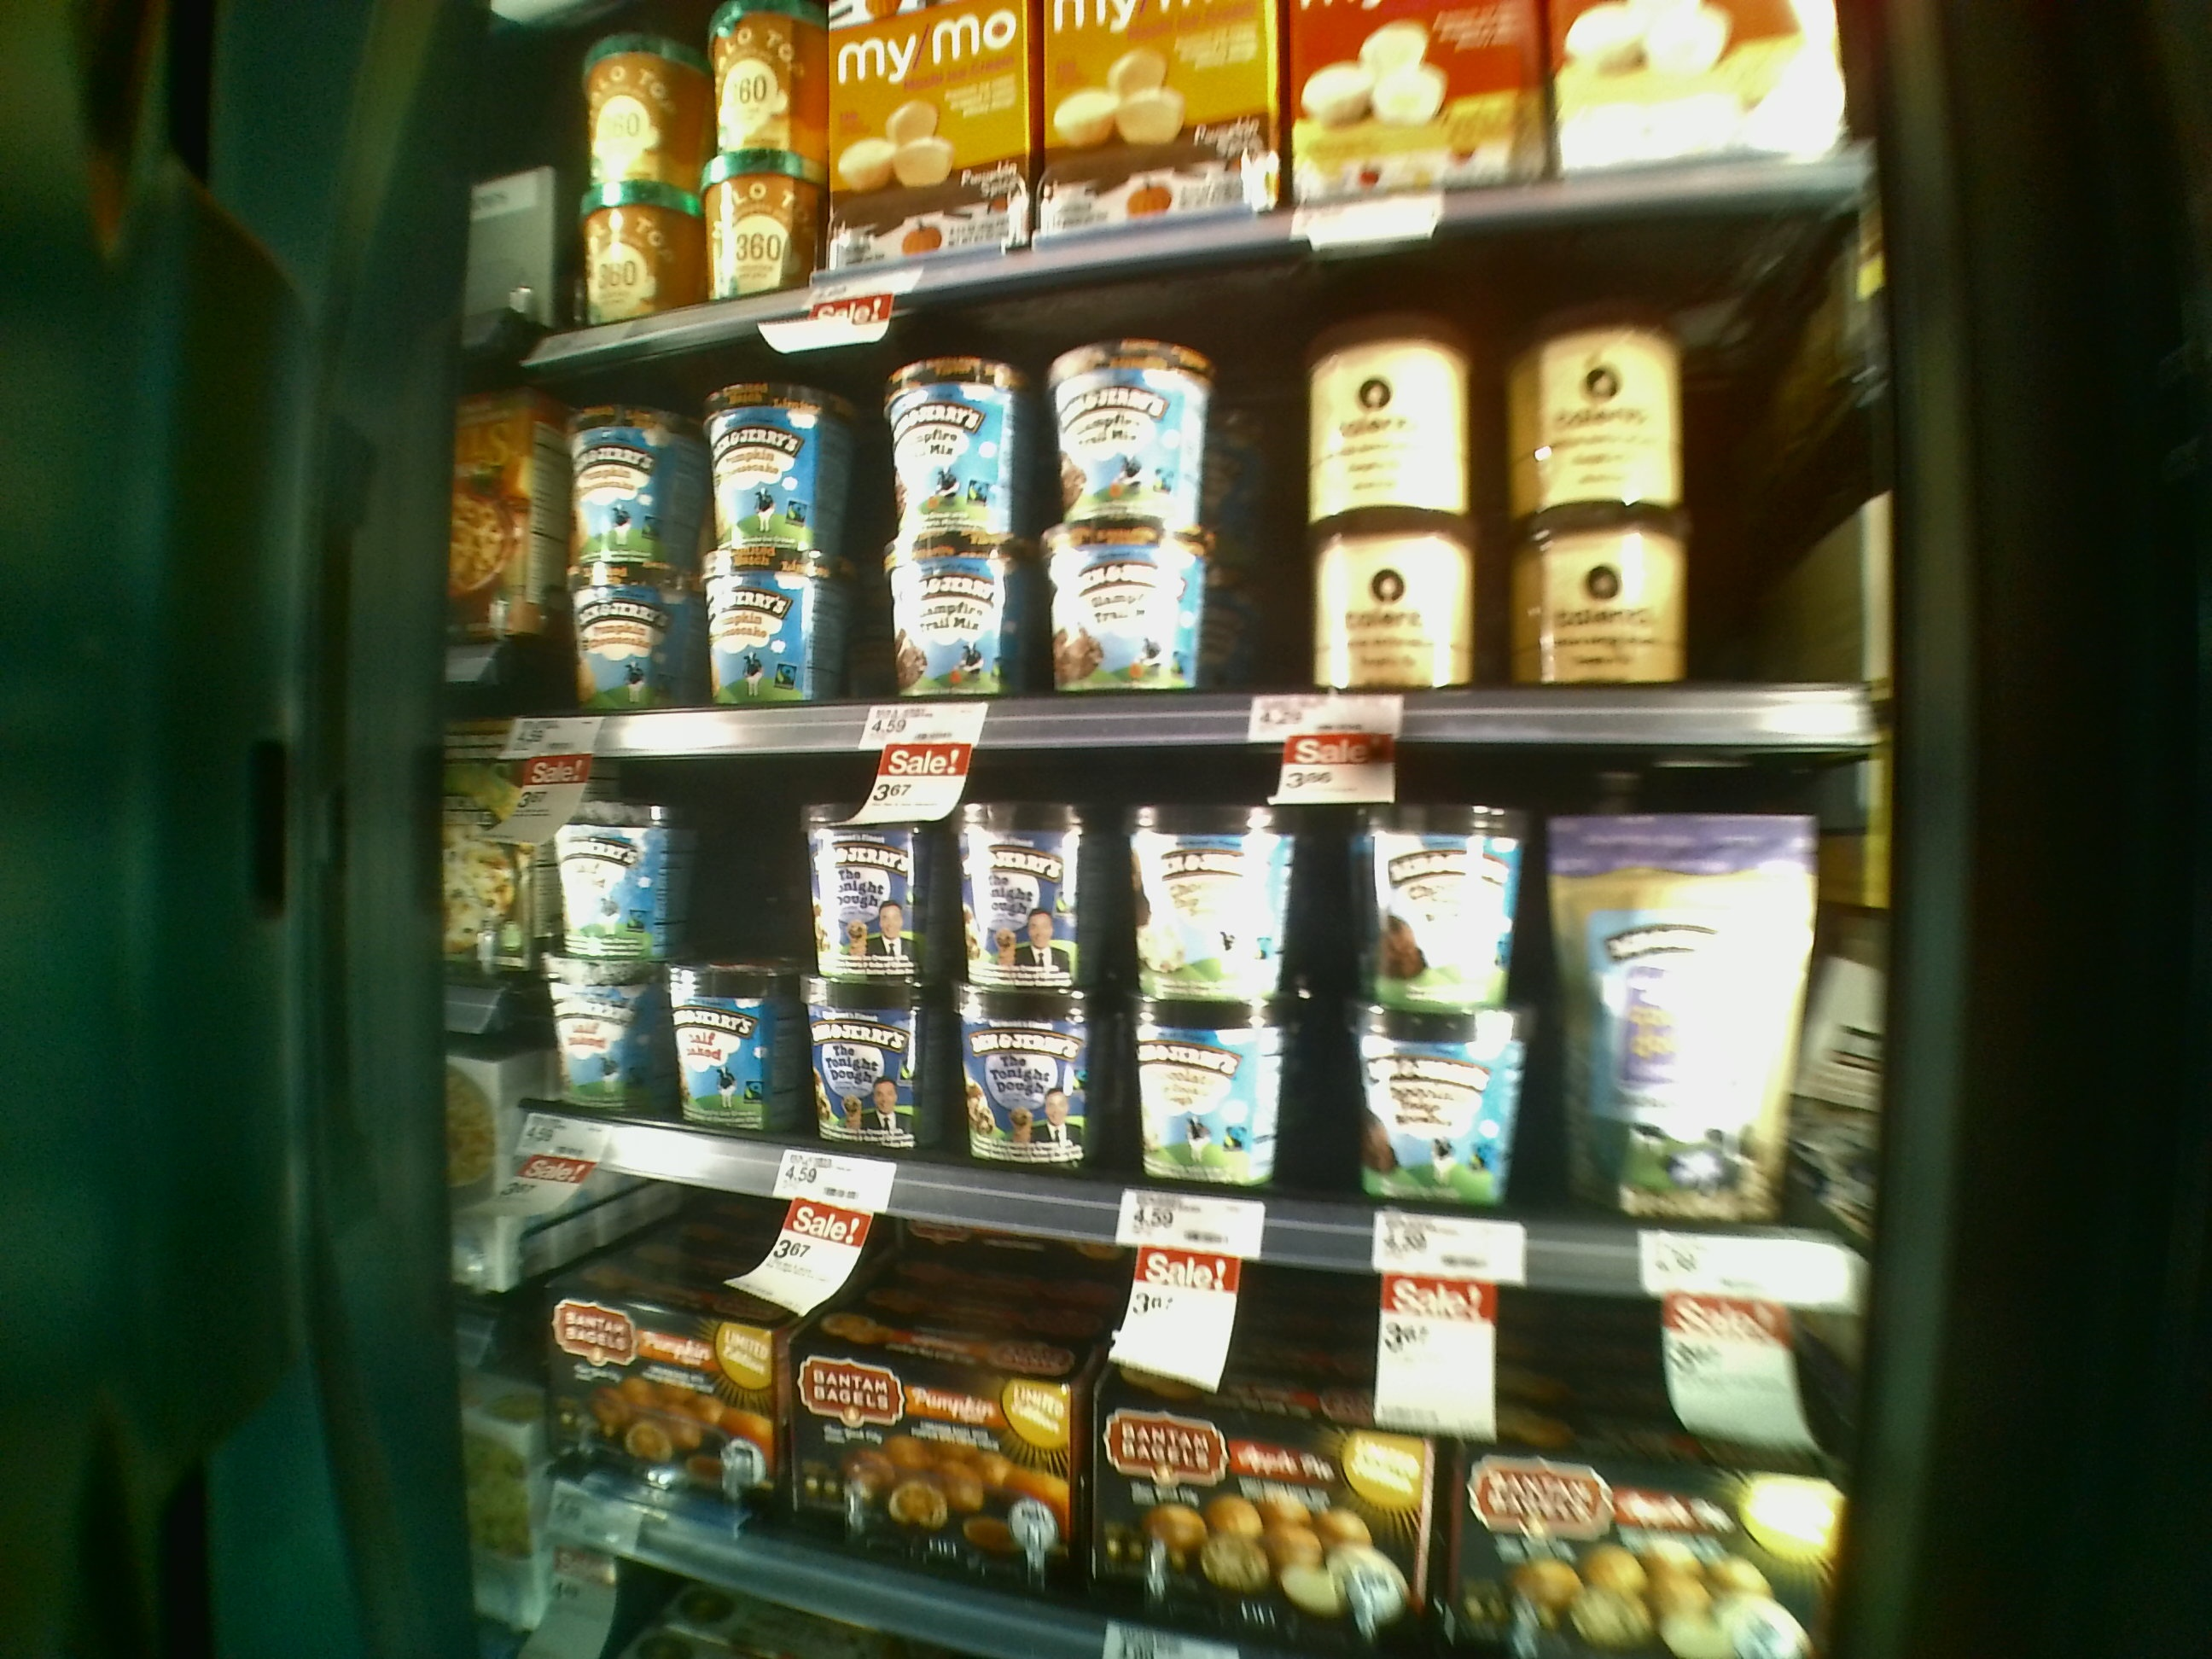shelf: (495, 690, 1865, 1295), (503, 303, 1860, 741)
